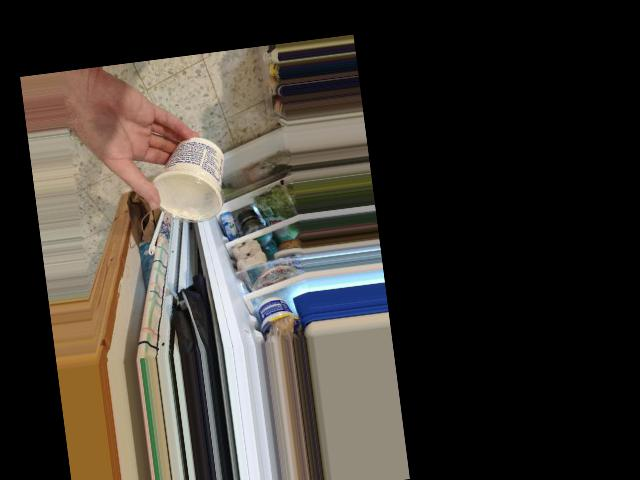cotage: (151, 131, 225, 225)
